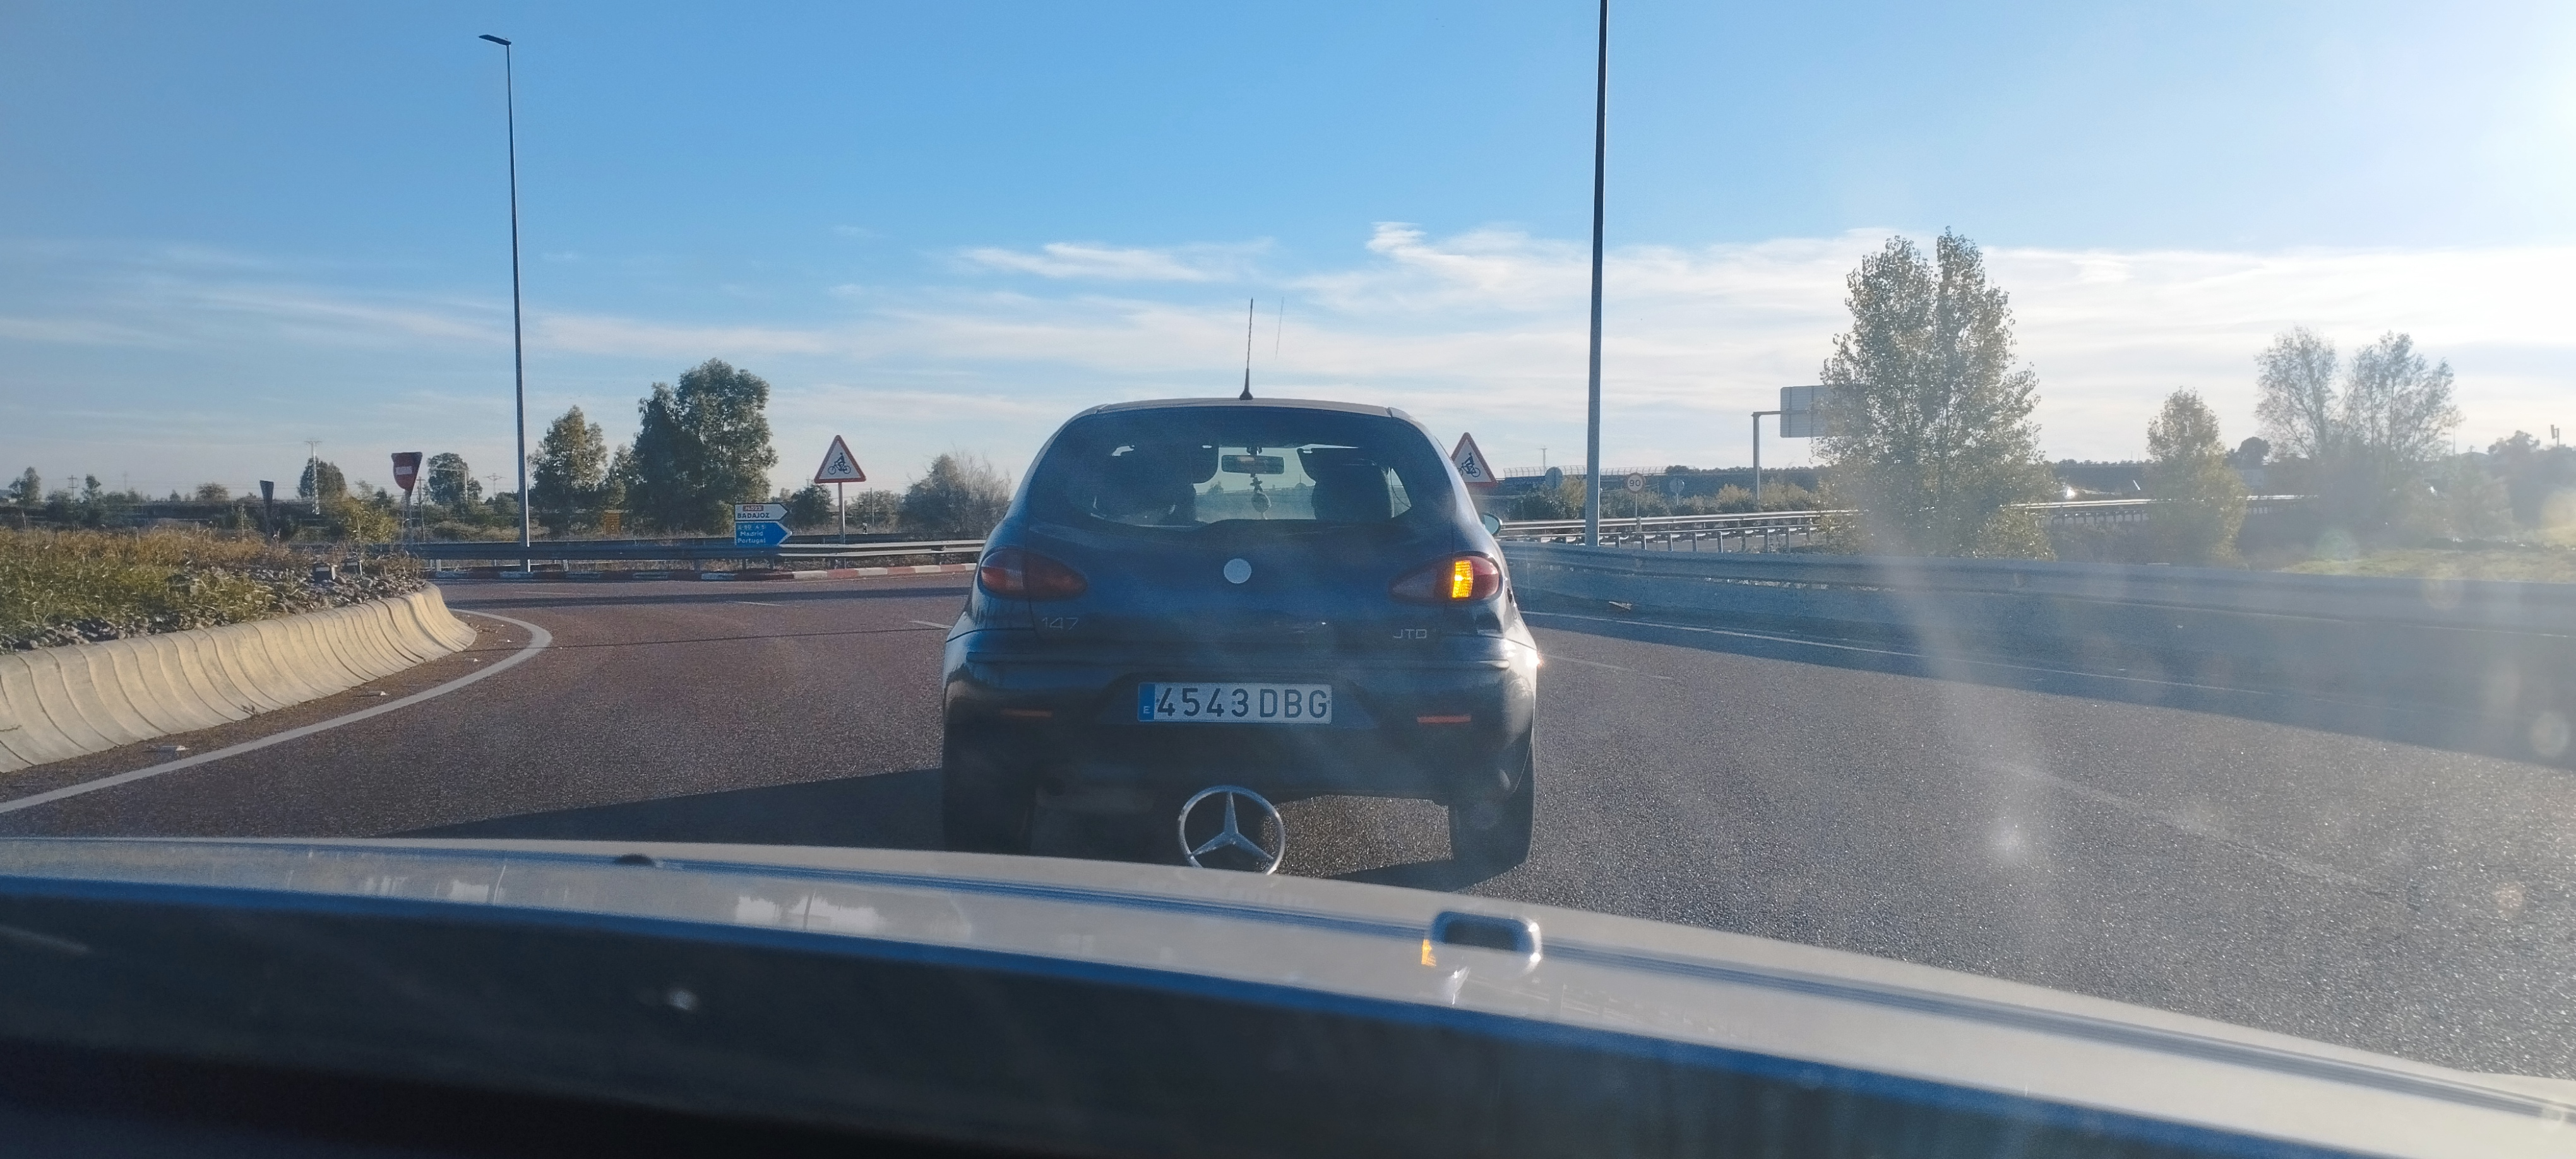Car: (933, 396, 1547, 867)
Plate: (1140, 679, 1333, 729)
